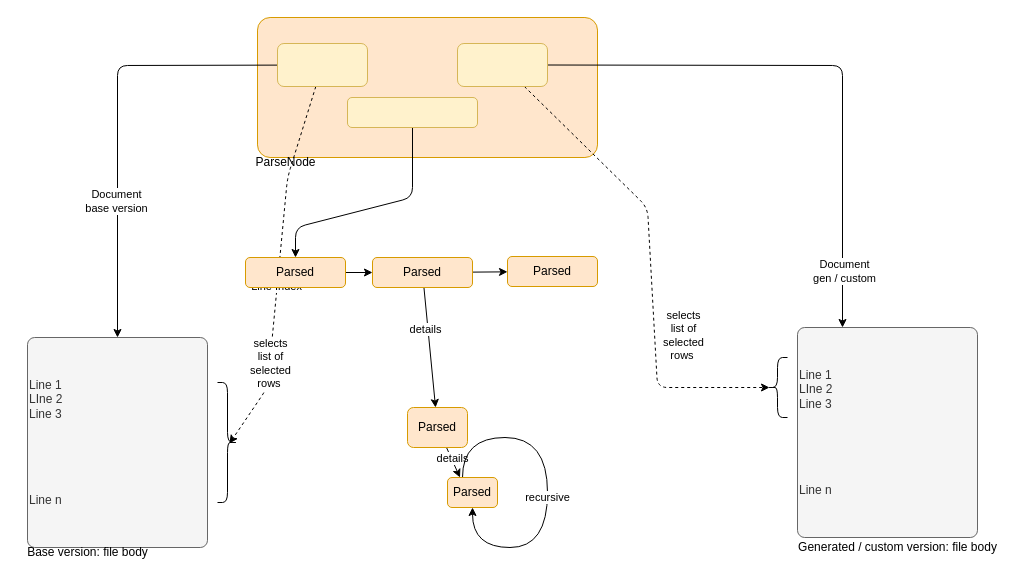
Image size: 1024x585. Some labels were removed from this diagram. The shapes that lost their labels are listed below. From the top down, each one's centre as x and y in pixels, then its label:
At point (322, 64): "left:Ref".
At point (502, 64): "right:Ref".
At point (412, 112): "details:List<parsed>".
